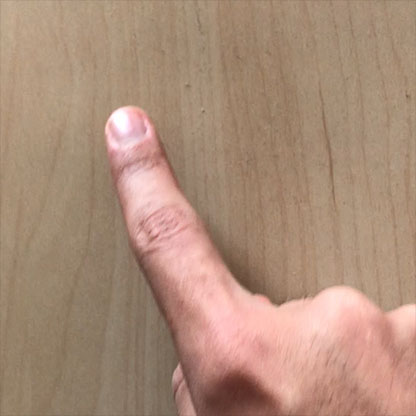fingertip: (97, 105, 166, 164)
